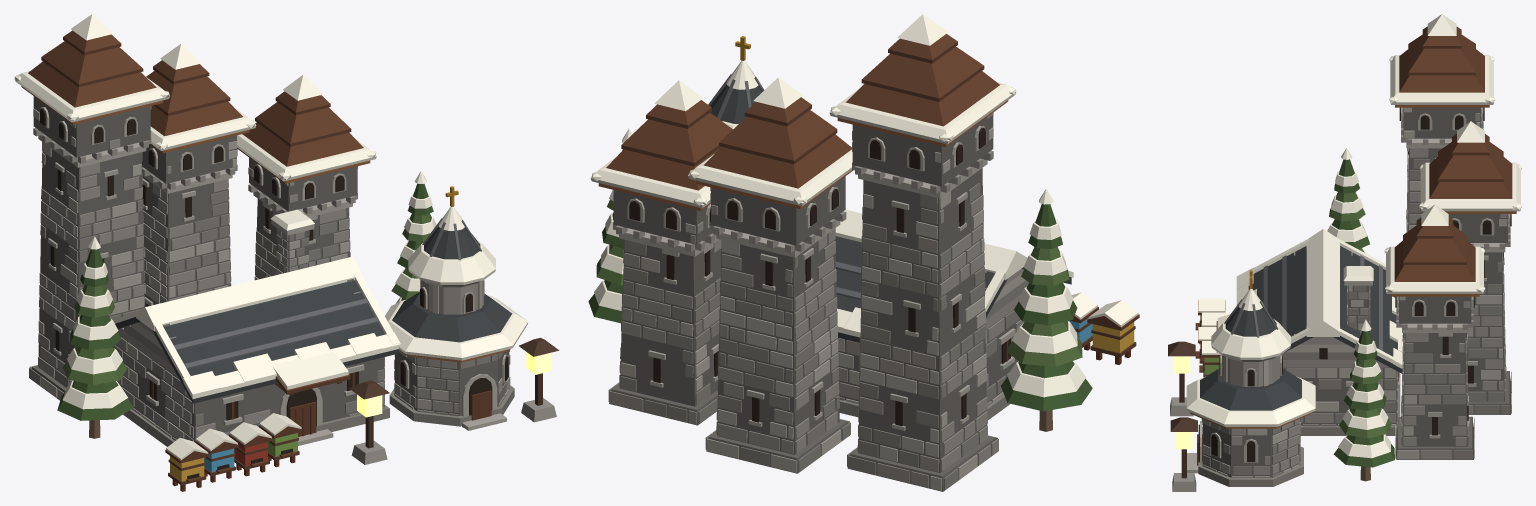
Rendered from snow_tower_village.glb.
3 views of the same model, side by side, from view 1: azimuth 30°, elevation 25°; view 2: azimuth 150°, elevation 25°; view 3: azimuth 270°, elevation 25° (orthographic). The views are drawn at different scales.
Parts seen in each view (by area): view 1: snow_tower_village_ST_Snow, snow_tower_village_ST_FieldstoneJoint, snow_tower_village_ST_Wood, snow_tower_village_ST_Fieldstone, snow_tower_village_ST_Slate, snow_tower_village_ST_FieldstoneLight, snow_tower_village_ST_FieldstoneMid, snow_tower_village_ST_Cypress, snow_tower_village_ST_SlateEdge, snow_tower_village_ST_CypressLight, snow_tower_village_ST_DeepArch, snow_tower_village_ST_Dark (+6 smaller); view 2: snow_tower_village_ST_FieldstoneJoint, snow_tower_village_ST_Wood, snow_tower_village_ST_Fieldstone, snow_tower_village_ST_Snow, snow_tower_village_ST_FieldstoneMid, snow_tower_village_ST_FieldstoneLight, snow_tower_village_ST_Cypress, snow_tower_village_ST_CypressLight, snow_tower_village_ST_Slate, snow_tower_village_ST_Dark, snow_tower_village_ST_DeepArch, snow_tower_village_ST_EaveUnderside (+2 smaller); view 3: snow_tower_village_ST_Snow, snow_tower_village_ST_FieldstoneJoint, snow_tower_village_ST_Wood, snow_tower_village_ST_Fieldstone, snow_tower_village_ST_Slate, snow_tower_village_ST_FieldstoneMid, snow_tower_village_ST_FieldstoneLight, snow_tower_village_ST_Cypress, snow_tower_village_ST_CypressLight, snow_tower_village_ST_SlateEdge, snow_tower_village_ST_Dark, snow_tower_village_WarmMini_wooddark (+4 smaller).
Part boxes in pixels (bbox=[...]): snow_tower_village_ST_Snow: bbox=[14, 14, 528, 460]; snow_tower_village_ST_FieldstoneJoint: bbox=[31, 96, 509, 442]; snow_tower_village_ST_Wood: bbox=[28, 30, 491, 485]; snow_tower_village_ST_Fieldstone: bbox=[33, 123, 510, 438]; snow_tower_village_ST_Slate: bbox=[115, 227, 512, 403]; snow_tower_village_ST_FieldstoneLight: bbox=[29, 106, 510, 445]; snow_tower_village_ST_FieldstoneMid: bbox=[29, 170, 514, 446]; snow_tower_village_ST_Cypress: bbox=[57, 183, 433, 420]; snow_tower_village_ST_SlateEdge: bbox=[174, 218, 481, 369]; snow_tower_village_ST_CypressLight: bbox=[62, 213, 431, 384]; snow_tower_village_ST_DeepArch: bbox=[40, 109, 492, 426]; snow_tower_village_ST_Dark: bbox=[50, 169, 508, 479]; snow_tower_village_ST_FieldstoneJoint: bbox=[609, 115, 1020, 491]; snow_tower_village_ST_Wood: bbox=[606, 34, 1139, 361]; snow_tower_village_ST_Fieldstone: bbox=[609, 112, 1024, 487]; snow_tower_village_ST_Snow: bbox=[590, 14, 1138, 397]; snow_tower_village_ST_FieldstoneMid: bbox=[608, 183, 1028, 490]; snow_tower_village_ST_FieldstoneLight: bbox=[619, 125, 1025, 490]; snow_tower_village_ST_Cypress: bbox=[588, 149, 1092, 411]; snow_tower_village_ST_CypressLight: bbox=[596, 199, 1082, 366]; snow_tower_village_ST_Slate: bbox=[710, 84, 1071, 342]; snow_tower_village_ST_Dark: bbox=[653, 200, 1010, 426]; snow_tower_village_ST_DeepArch: bbox=[629, 128, 985, 229]; snow_tower_village_ST_EaveUnderside: bbox=[598, 100, 1008, 210]; snow_tower_village_ST_Snow: bbox=[1186, 14, 1521, 458]; snow_tower_village_ST_FieldstoneJoint: bbox=[1202, 107, 1510, 477]; snow_tower_village_ST_Wood: bbox=[1195, 26, 1512, 465]; snow_tower_village_ST_Fieldstone: bbox=[1202, 107, 1510, 477]; snow_tower_village_ST_Slate: bbox=[1200, 246, 1402, 410]; snow_tower_village_ST_FieldstoneMid: bbox=[1198, 159, 1511, 486]; snow_tower_village_ST_FieldstoneLight: bbox=[1187, 107, 1511, 476]; snow_tower_village_ST_Cypress: bbox=[1332, 159, 1394, 467]; snow_tower_village_ST_CypressLight: bbox=[1329, 192, 1391, 438]; snow_tower_village_ST_SlateEdge: bbox=[1224, 255, 1382, 350]; snow_tower_village_ST_Dark: bbox=[1199, 151, 1505, 461]; snow_tower_village_WarmMini_wooddark: bbox=[1168, 341, 1197, 478].
Bounding box in the file's own units: 3.53 × 3.15 × 2.96.
